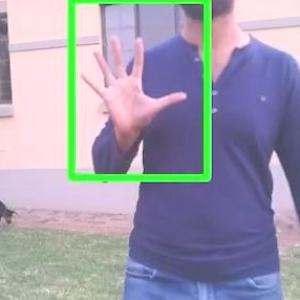follow_hand: (76, 31, 188, 138)
